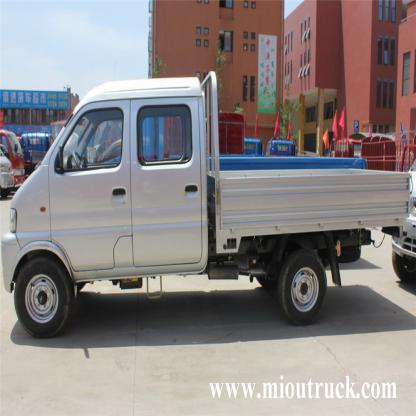normal-truck: (1, 81, 414, 314)
